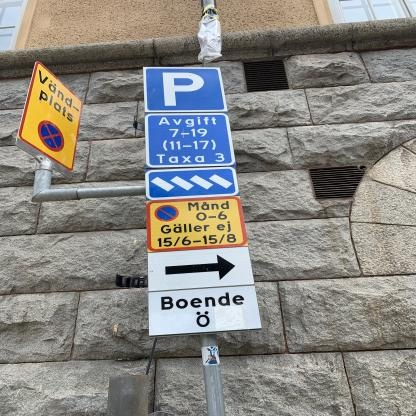P-skylt: (141, 66, 228, 115)
